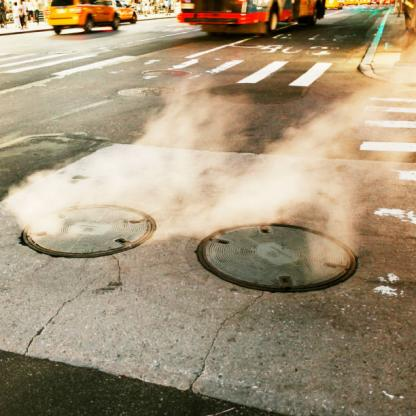manholes: (185, 200, 368, 312), (13, 186, 162, 286)
